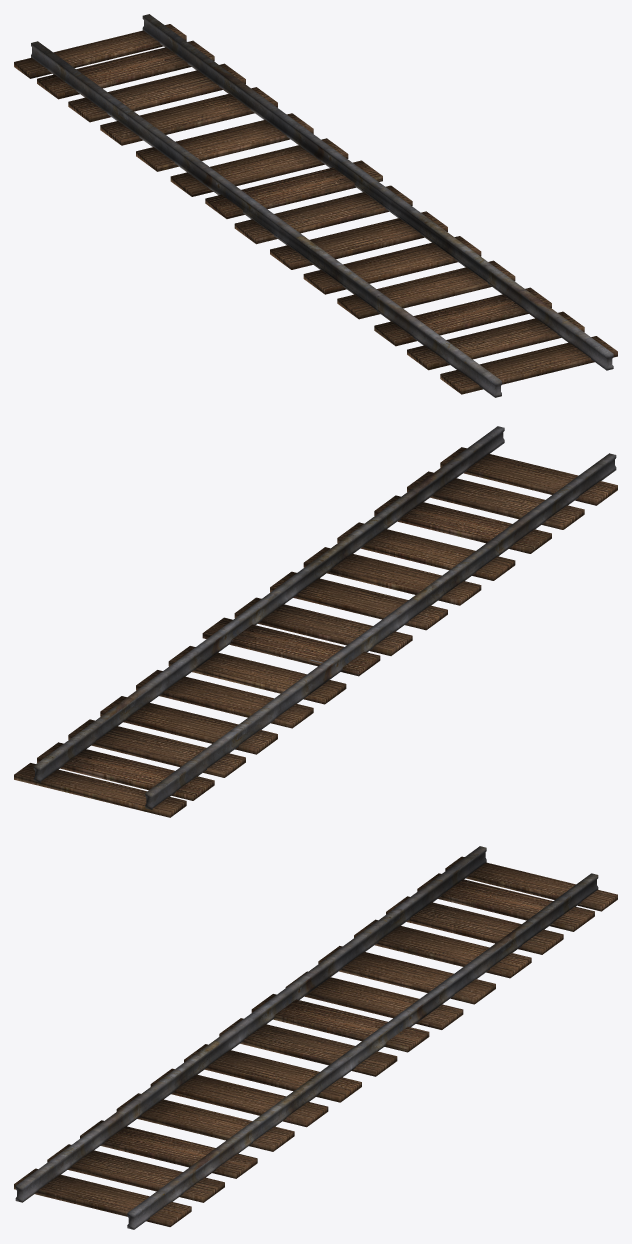
Rendered from Track.fbx.
3 renders of one model, top to bottom at view 1: azimuth 30°, elevation 25°; view 2: azimuth 150°, elevation 25°; view 3: azimuth 330°, elevation 25°, orthographic.
Parts seen in each view (by area): view 1: Cube_001; view 2: Cube_001; view 3: Cube_001.
Part boxes in pixels (x1=…): Cube_001: x1=14, y1=14, x2=617, y2=397; Cube_001: x1=14, y1=426, x2=617, y2=817; Cube_001: x1=14, y1=846, x2=617, y2=1229.
Size of the model in its own units: 2.1 by 0.2552 by 10.7.
